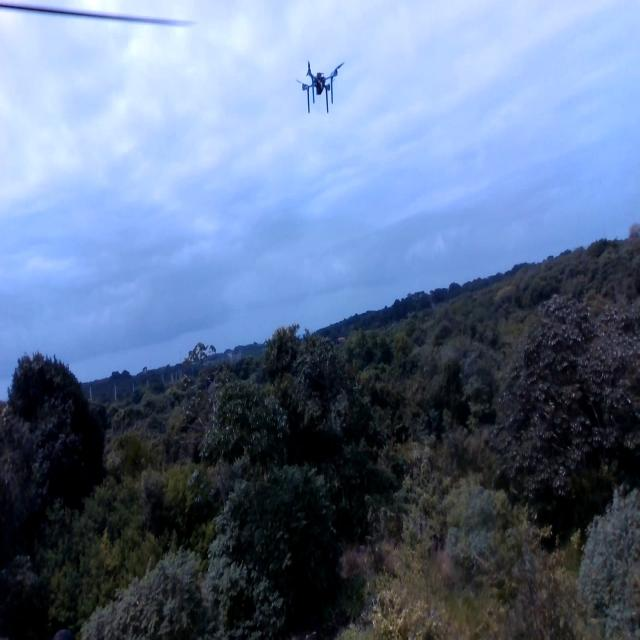-uav-: (284, 49, 354, 128)
